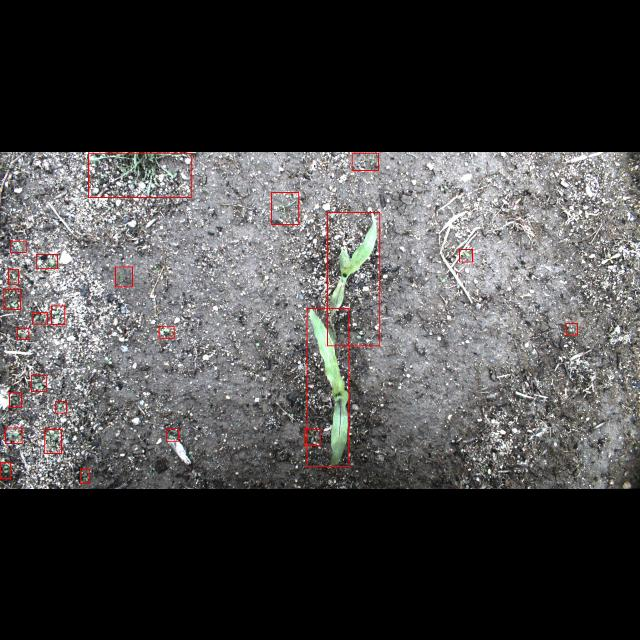crop: (328, 211, 380, 345), (307, 308, 349, 467)
weed: (88, 152, 192, 196), (271, 191, 299, 223), (352, 152, 378, 170), (44, 428, 61, 454), (116, 266, 132, 286), (4, 289, 20, 309), (36, 254, 58, 268), (30, 374, 46, 392), (304, 428, 320, 446), (51, 306, 65, 324), (5, 428, 22, 442), (8, 392, 22, 406), (10, 240, 26, 252), (32, 312, 48, 324), (158, 327, 174, 338), (460, 248, 472, 262), (8, 268, 18, 284), (0, 462, 10, 478), (80, 468, 90, 484), (167, 428, 179, 440), (17, 328, 29, 338), (566, 324, 578, 334), (56, 402, 66, 412)
